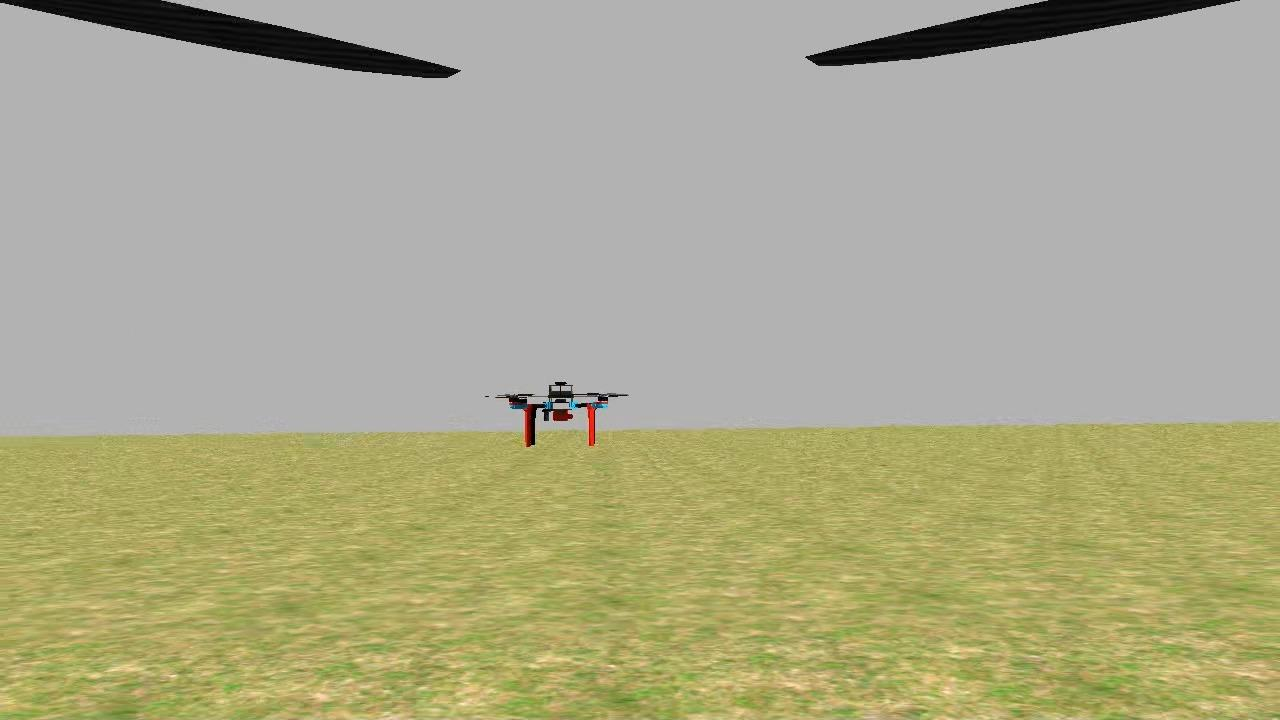UAV: (489, 374, 626, 453)
